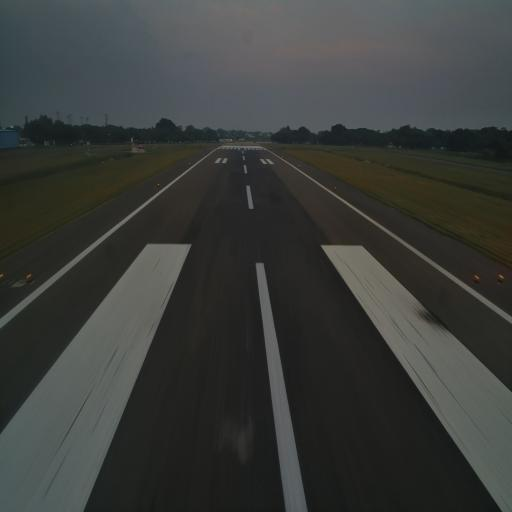on: (24, 270, 34, 284), (497, 271, 505, 285), (472, 271, 480, 284), (0, 268, 5, 283)
